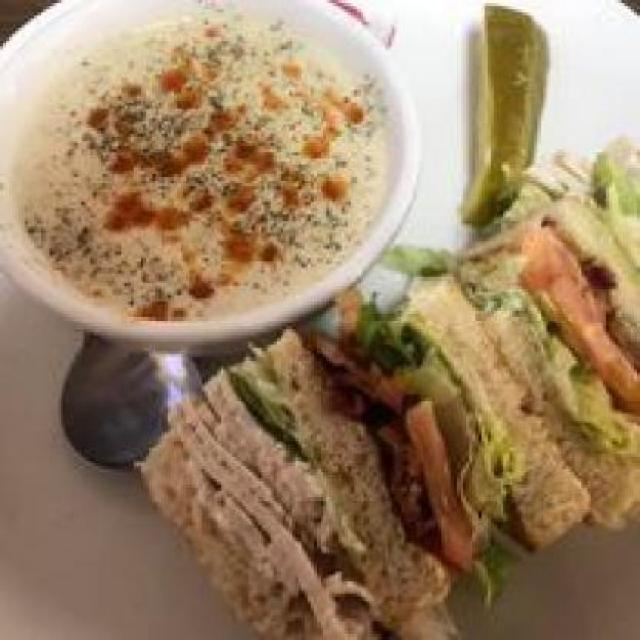club sandwich: (143, 232, 637, 634)
